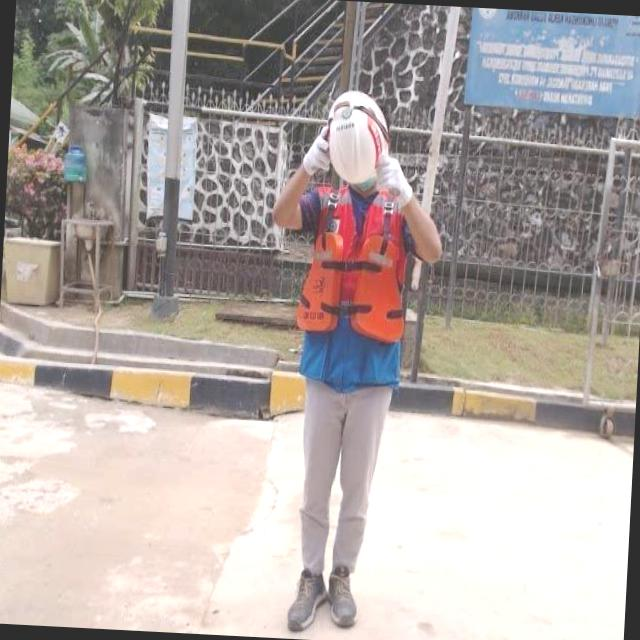vest: (288, 182, 413, 368)
